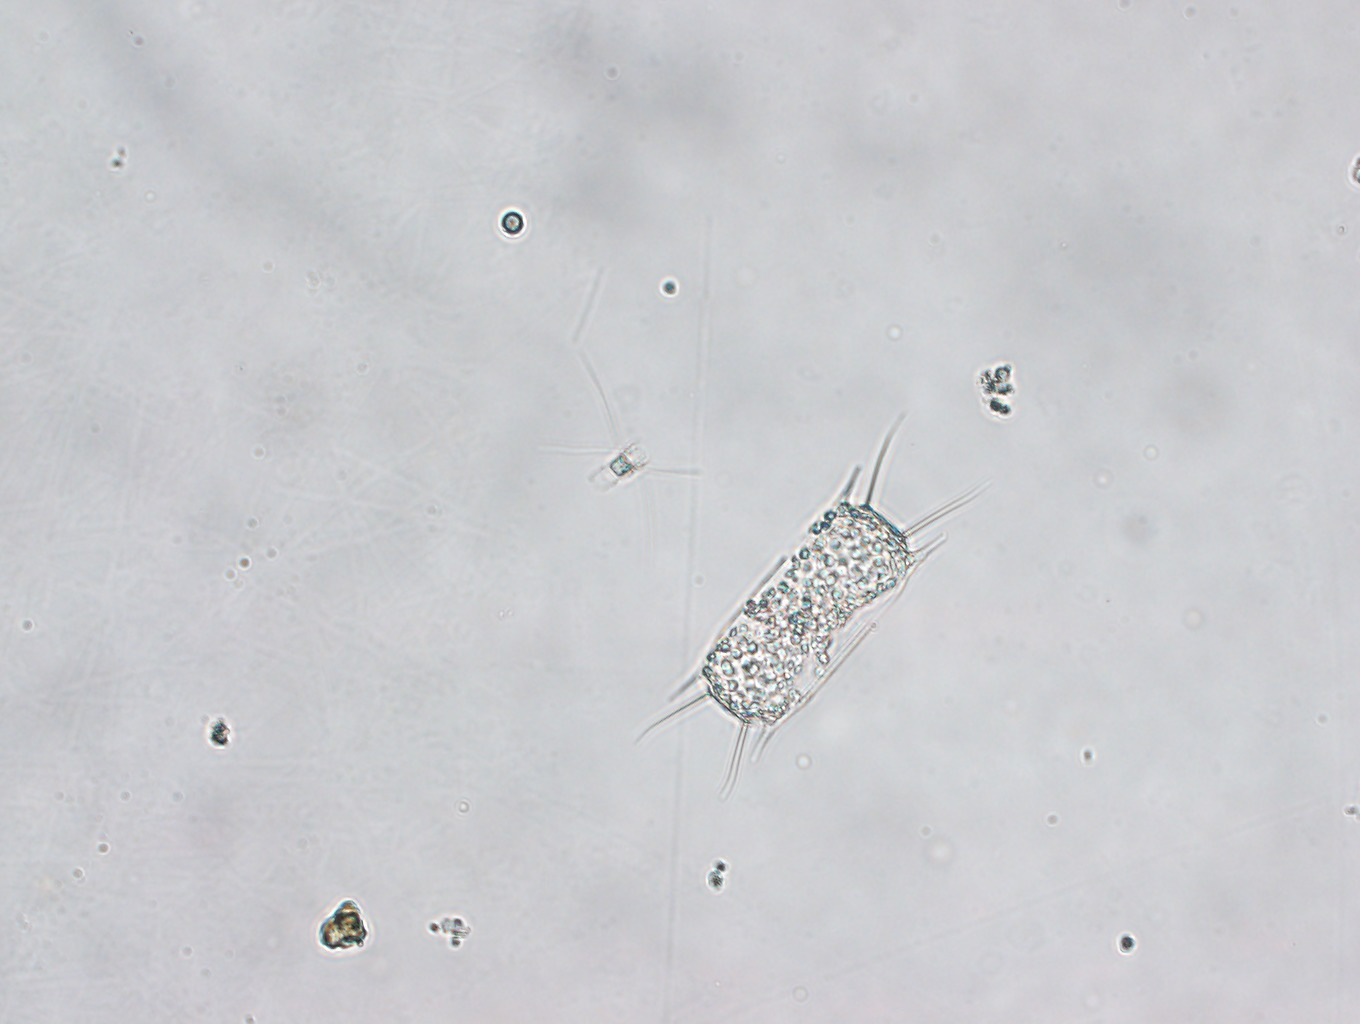biddulphia: (636, 414, 994, 802)
